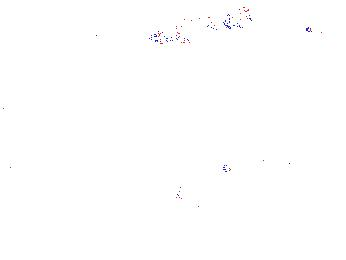red belly glassfish: (303, 25, 333, 37)
redtail glassfish: (148, 12, 221, 43), (171, 155, 237, 189), (222, 6, 257, 30)
siberian prawn: (32, 224, 106, 255)
